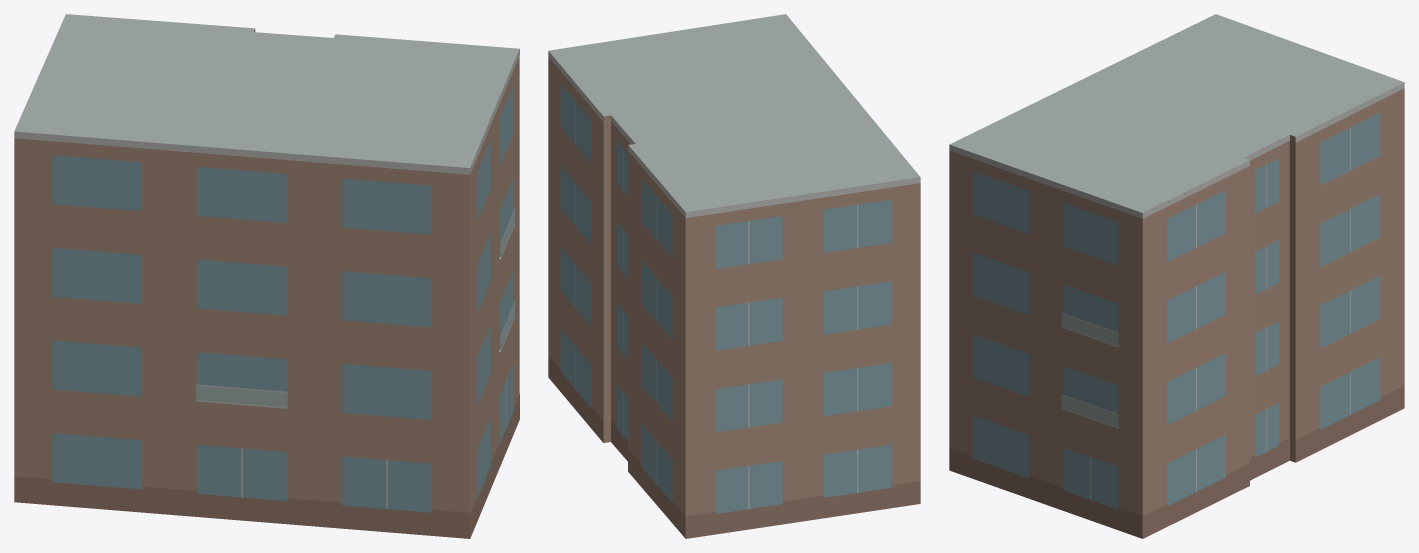
The model's file is survey-upis-32559082.glb.
3 renders of one model, left to right at view 1: azimuth 30°, elevation 25°; view 2: azimuth 150°, elevation 25°; view 3: azimuth 270°, elevation 25°, orthographic. The views are drawn at different scales.
Visible parts, largest first — view 1: survey-upis-32559082.tmp; view 2: survey-upis-32559082.tmp; view 3: survey-upis-32559082.tmp.
Part boxes in pixels (<box>): survey-upis-32559082.tmp: <box>14,14,519,538</box>; survey-upis-32559082.tmp: <box>548,14,920,538</box>; survey-upis-32559082.tmp: <box>949,14,1404,538</box>.
Size of the model in its own units: 17.69 by 13.5 by 17.1.
